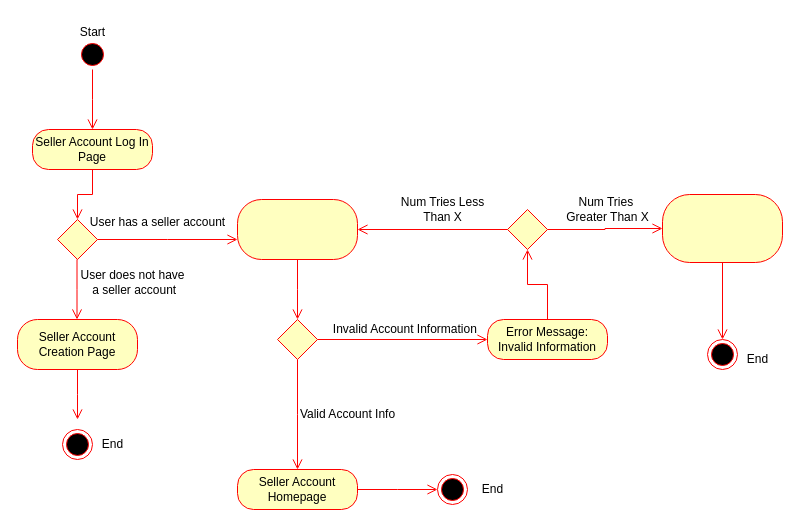
Image size: 800x527. Some labels were removed from this diagram. The shapes that lost their labels are listed below. From the top down, each one's box as (x1, y1, x2, y2) in pixels, then its label:
(236, 198, 358, 260): Account Information Filled In
(662, 194, 782, 262): Error Message: Too Many Failed Attempts Try Again Later
